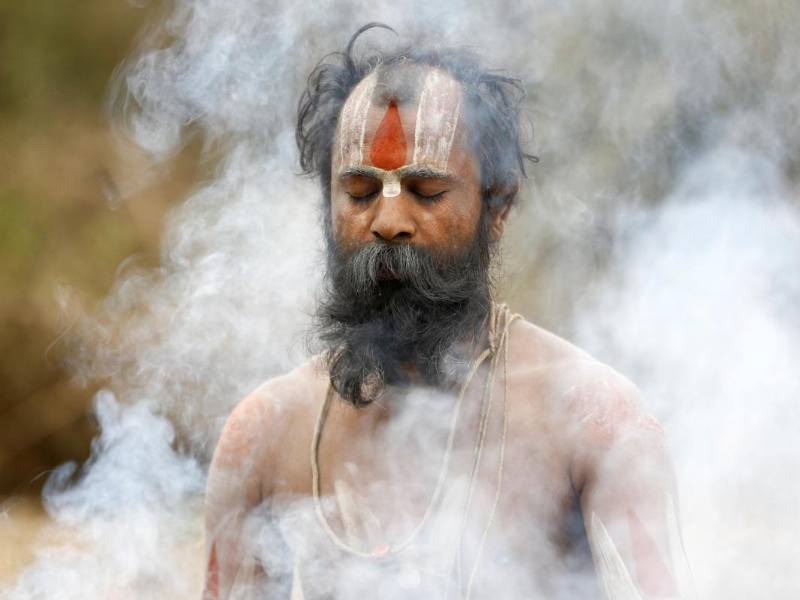smoke: (183, 1, 779, 566)
